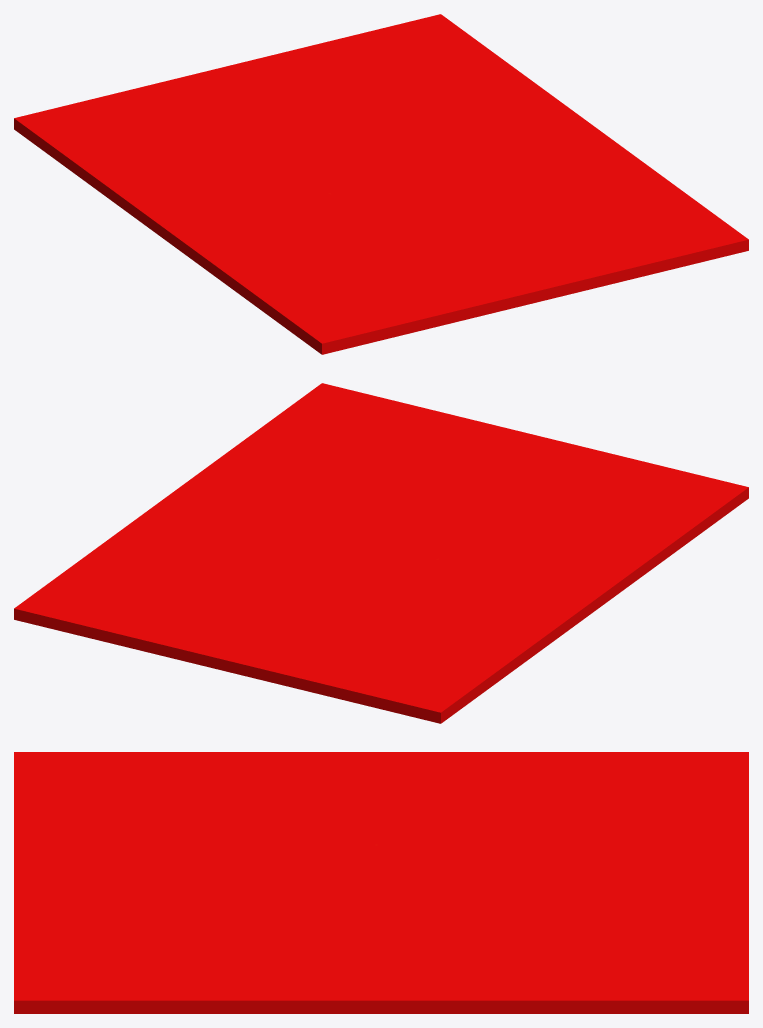
Rendered from floor.FBX.
3 views of the same model, one above another, from view 1: azimuth 30°, elevation 25°; view 2: azimuth 150°, elevation 25°; view 3: azimuth 270°, elevation 25° (orthographic). The views are drawn at different scales.
Visible parts, largest first — view 1: Box001; view 2: Box001; view 3: Box001.
Part boxes in pixels (bbox=[...]): Box001: bbox=[14, 14, 748, 354]; Box001: bbox=[14, 383, 748, 723]; Box001: bbox=[14, 752, 748, 1013].
Bounding box in the file's own units: 4000 × 5000 × 100.
Materials: 1 (1 with a texture image).
